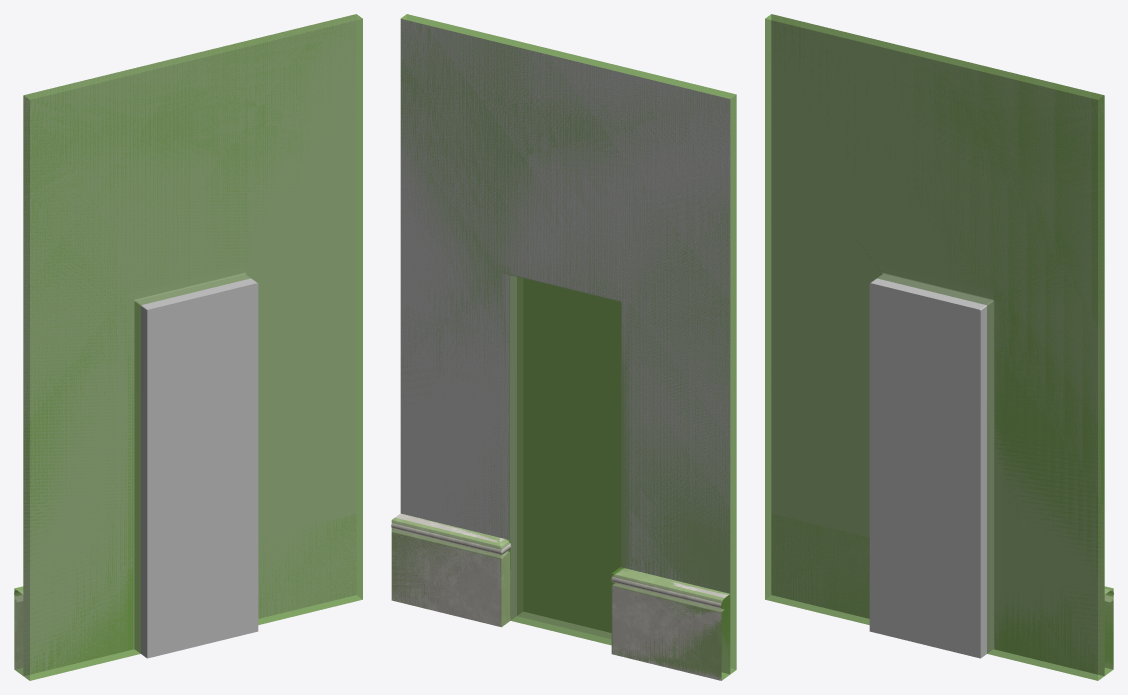
Rendered from F3_md_StreetWall_5x3_DS_01.fbx.
3 views of the same model, side by side, from view 1: azimuth 30°, elevation 25°; view 2: azimuth 150°, elevation 25°; view 3: azimuth 330°, elevation 25° (orthographic).
Parts seen in each view (by area): view 1: F3_md_StreetWall_5x3_DS_01_LOD0, F3_md_StreetWall_5x3_DS_01_col_03, F3_md_StreetWall_5x3_DS_01_col_01; view 2: F3_md_StreetWall_5x3_DS_01_LOD0, F3_md_StreetWall_5x3_DS_01_col_03, F3_md_StreetWall_5x3_DS_01_col_01, F3_md_StreetWall_5x3_DS_01_col_02; view 3: F3_md_StreetWall_5x3_DS_01_LOD0, F3_md_StreetWall_5x3_DS_01_col_03, F3_md_StreetWall_5x3_DS_01_col_02, F3_md_StreetWall_5x3_DS_01_col_01.
Boxes of the visible parts, x1=… form: F3_md_StreetWall_5x3_DS_01_LOD0: x1=14, y1=14, x2=356, y2=675; F3_md_StreetWall_5x3_DS_01_col_03: x1=23, y1=14, x2=362, y2=680; F3_md_StreetWall_5x3_DS_01_col_01: x1=14, y1=568, x2=132, y2=675; F3_md_StreetWall_5x3_DS_01_LOD0: x1=391, y1=19, x2=730, y2=680; F3_md_StreetWall_5x3_DS_01_col_03: x1=400, y1=14, x2=736, y2=674; F3_md_StreetWall_5x3_DS_01_col_01: x1=611, y1=567, x2=730, y2=680; F3_md_StreetWall_5x3_DS_01_col_02: x1=391, y1=515, x2=510, y2=627; F3_md_StreetWall_5x3_DS_01_LOD0: x1=771, y1=14, x2=1113, y2=675; F3_md_StreetWall_5x3_DS_01_col_03: x1=765, y1=14, x2=1104, y2=680; F3_md_StreetWall_5x3_DS_01_col_02: x1=995, y1=586, x2=1113, y2=675; F3_md_StreetWall_5x3_DS_01_col_01: x1=772, y1=515, x2=869, y2=617.
Size of what is drawn, in the model's own units: 300 by 500 by 34.72.
